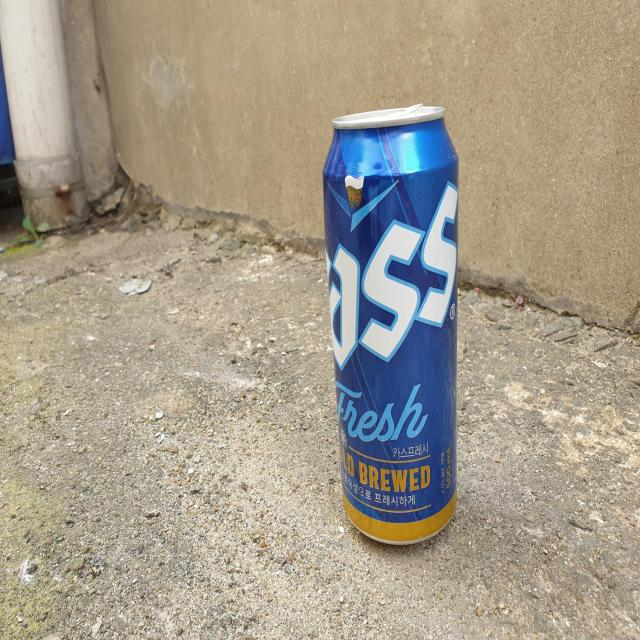can: (323, 104, 459, 545)
